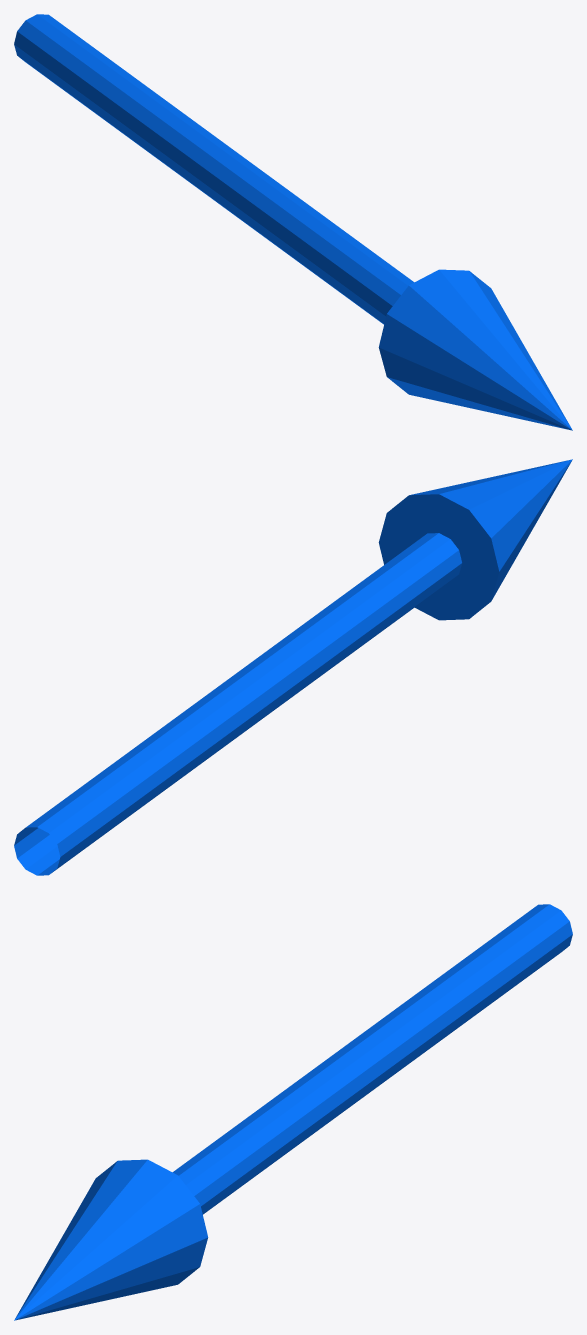
Rendered from TranslateZ.obj.
The picture shows the model from 3 angles, top to bottom: view 1: azimuth 30°, elevation 25°; view 2: azimuth 150°, elevation 25°; view 3: azimuth 330°, elevation 25°; orthographic projection.
Visible parts, largest first — view 1: translate_z; view 2: translate_z; view 3: translate_z.
Boxes of the visible parts, <box> form: translate_z: <box>14,14,572,430</box>; translate_z: <box>14,459,572,875</box>; translate_z: <box>14,904,572,1320</box>.
Bounding box in the file's own units: 13 × 13 × 100.
Materials: 1 (1 with a texture image).
